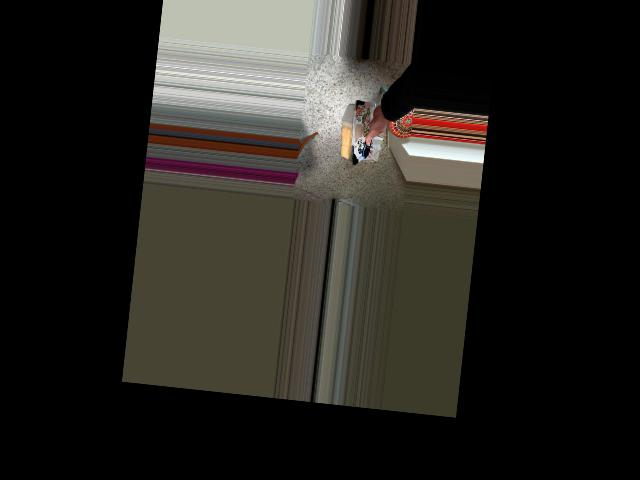cheese: (320, 89, 392, 170)
